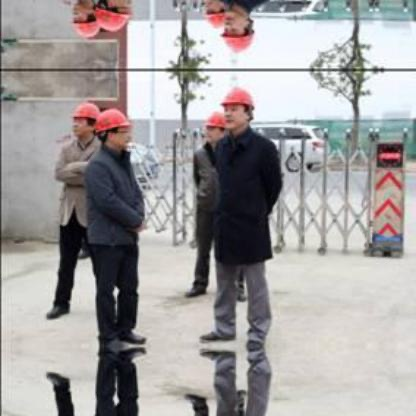Safety Helmet: (216, 4, 259, 54), (92, 106, 135, 154), (219, 83, 258, 132), (68, 100, 97, 146), (95, 1, 133, 36), (69, 1, 100, 43), (200, 109, 229, 142)
